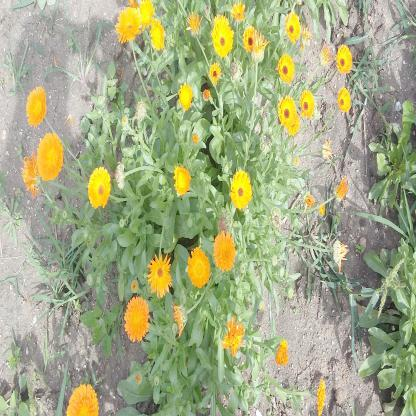marigold: (36, 131, 64, 181), (124, 296, 150, 342), (146, 253, 172, 299), (87, 166, 110, 210), (115, 6, 142, 43), (187, 246, 210, 289), (21, 150, 42, 196), (212, 230, 235, 272), (221, 314, 244, 356), (25, 84, 47, 127), (230, 169, 252, 211), (212, 22, 234, 58), (148, 15, 166, 52), (278, 94, 297, 128), (210, 13, 230, 43), (173, 163, 191, 196), (284, 10, 302, 43), (334, 42, 352, 75), (277, 52, 295, 84), (138, 0, 155, 31), (315, 376, 327, 415), (179, 80, 193, 111), (243, 23, 259, 50), (300, 87, 314, 117), (337, 86, 351, 114), (286, 111, 300, 136), (230, 0, 245, 22), (209, 61, 222, 85)
